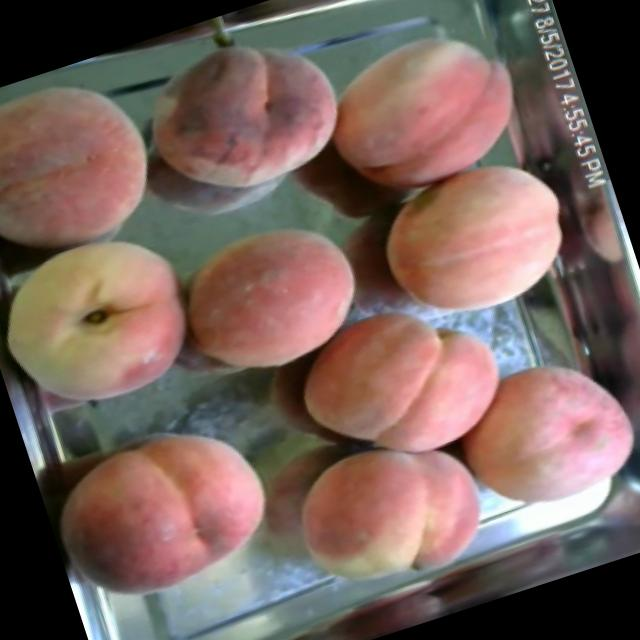Fruit: (103, 0, 372, 237), (270, 270, 536, 501), (31, 396, 294, 629), (266, 398, 516, 626), (0, 211, 227, 441), (147, 190, 386, 408), (356, 142, 598, 352), (299, 4, 541, 214), (425, 322, 640, 553), (0, 46, 186, 288)
